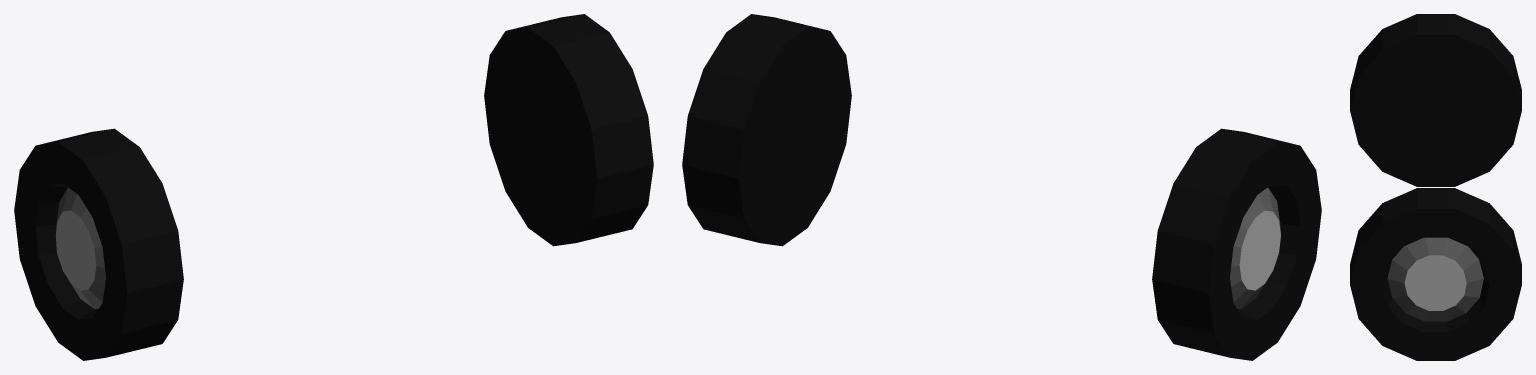
File: WheelDefaultBack.fbx
3 views of the same model, side by side, from view 1: azimuth 30°, elevation 25°; view 2: azimuth 150°, elevation 25°; view 3: azimuth 270°, elevation 25° (orthographic). The views are drawn at different scales.
Parts seen in each view (by area): view 1: WheelDefaultBack; view 2: WheelDefaultBack; view 3: WheelDefaultBack.
Boxes of the visible parts, box(x1,y1,x2,y2) form: WheelDefaultBack: box(14, 14, 653, 360); WheelDefaultBack: box(682, 14, 1321, 360); WheelDefaultBack: box(1350, 14, 1521, 360).
Bounding box in the file's own units: 1.38 × 0.4996 × 0.5124.
